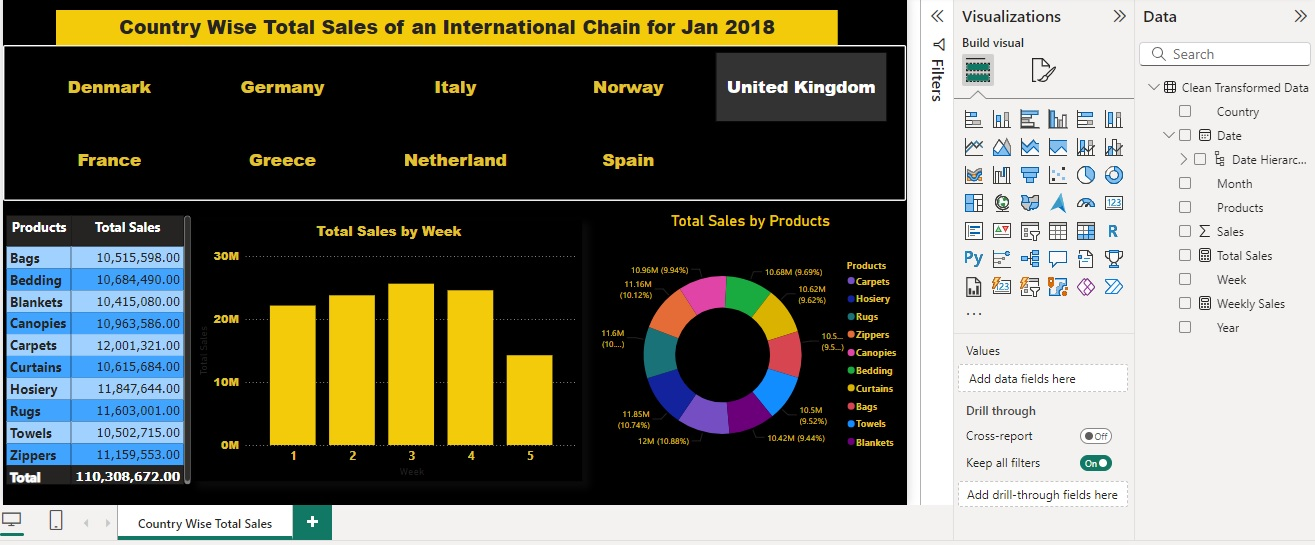

What the dashboard file says about the page in this screenshot:
{"tool":"powerbi","page":{"name":"Country Wise Total Sales","canvas":[1280,720],"ordinal":0},"visuals":[{"type":"pivotTable","fields":{"Rows":["Clean Transformed Data.Products"],"Values":["Clean Transformed Data.Total Sales"]},"box":[0,305.2,270.7,391.2],"z":0},{"type":"slicer","fields":{"Values":["Clean Transformed Data.Country"]},"box":[0,68,1279.8,221.1],"z":1},{"type":"donutChart","fields":{"Y":["Clean Transformed Data.Total Sales"],"Category":["Clean Transformed Data.Products"]},"box":[839.1,305.2,440.8,381.3],"z":2},{"type":"clusteredColumnChart","fields":{"Category":["Clean Transformed Data.Week"],"Y":["Clean Transformed Data.Total Sales"]},"box":[270.7,316.5,549.9,369.9],"z":3},{"type":"textbox","box":[75.1,18.4,1108.3,49.6],"z":4}]}

Visuals, with their boxes on the page's 1280x720 design canvas (x1, y1, x2, y2). These are canvas units, not pixel positions in the 1315x545 screenshot, which may show the page scaled, cropped or inside an application window:
pivotTable - Clean Transformed Data.Products x Clean Transformed Data.Total Sales: pyautogui.locateOnScreen(0, 305, 271, 696)
slicer - Clean Transformed Data.Country: pyautogui.locateOnScreen(0, 68, 1280, 289)
donutChart - Clean Transformed Data.Total Sales x Clean Transformed Data.Products: pyautogui.locateOnScreen(839, 305, 1280, 686)
clusteredColumnChart - Clean Transformed Data.Week x Clean Transformed Data.Total Sales: pyautogui.locateOnScreen(271, 316, 821, 686)
textbox: pyautogui.locateOnScreen(75, 18, 1183, 68)
